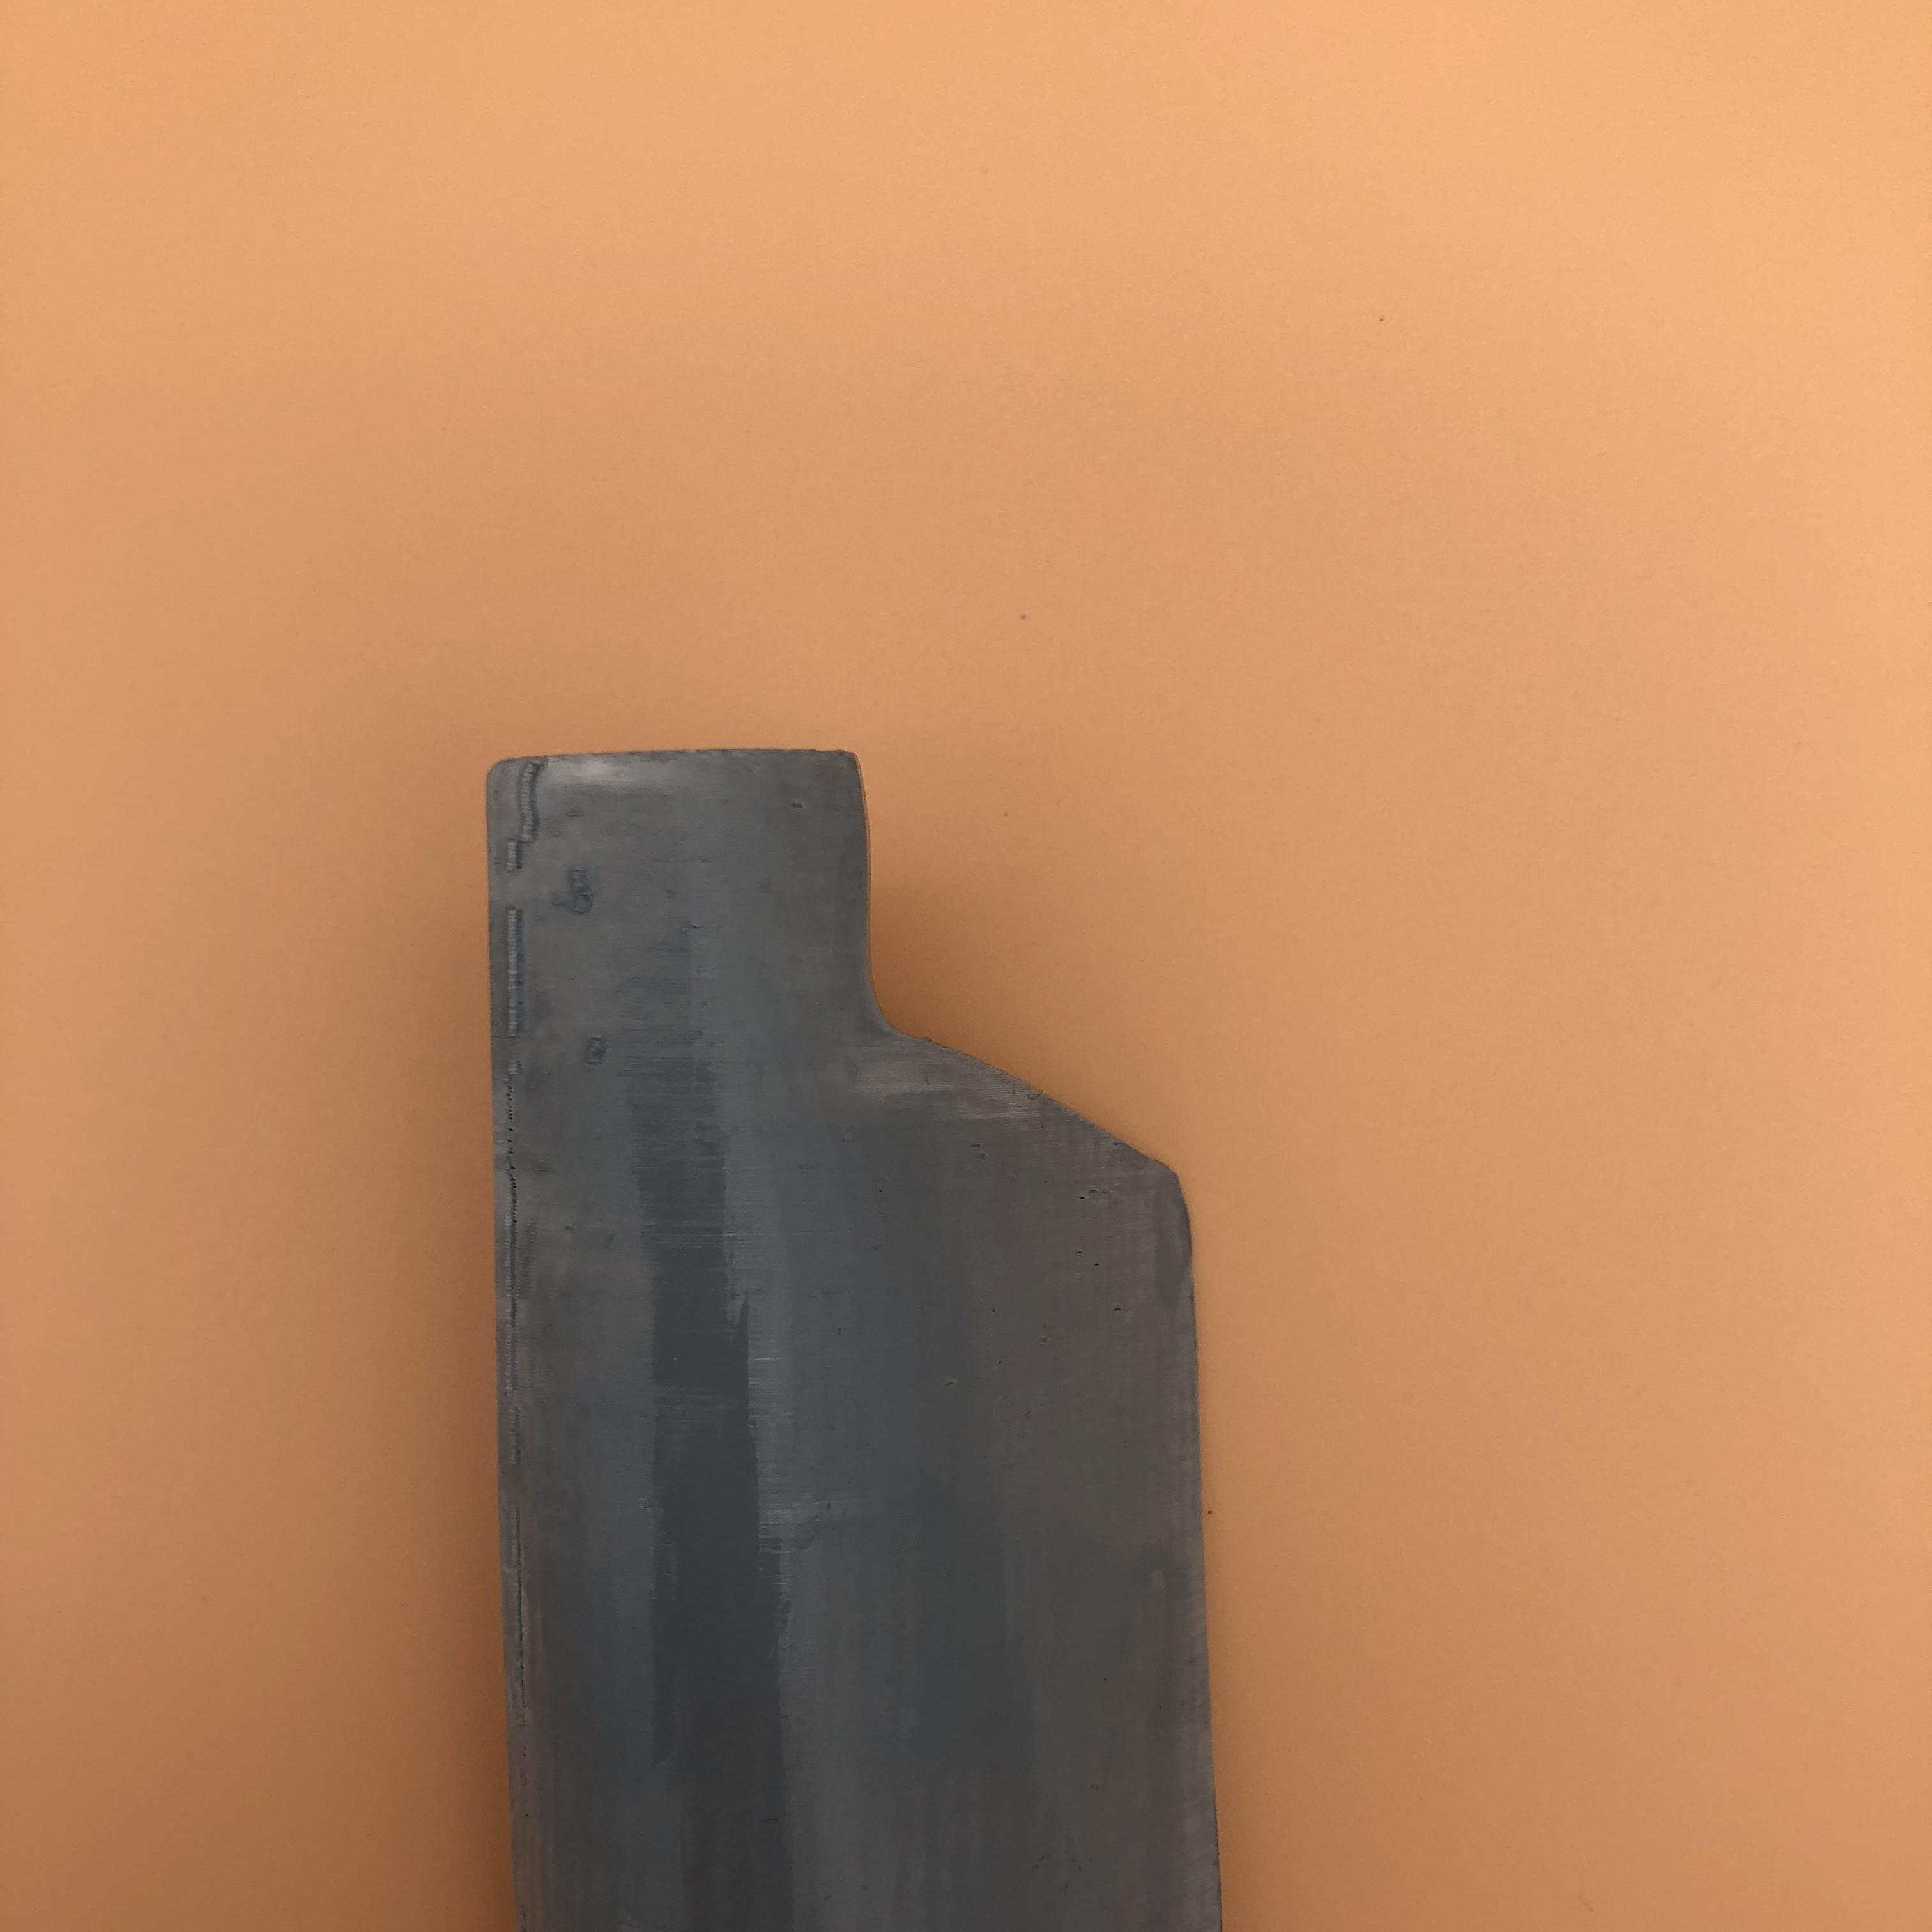fracture: (809, 778, 1171, 1194)
